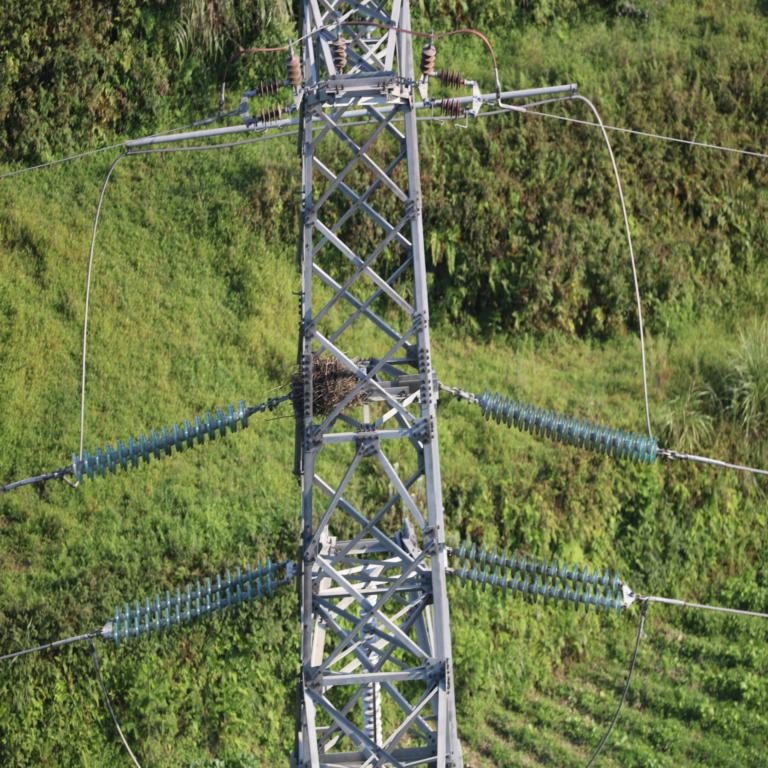nest: (302, 362, 370, 413)
